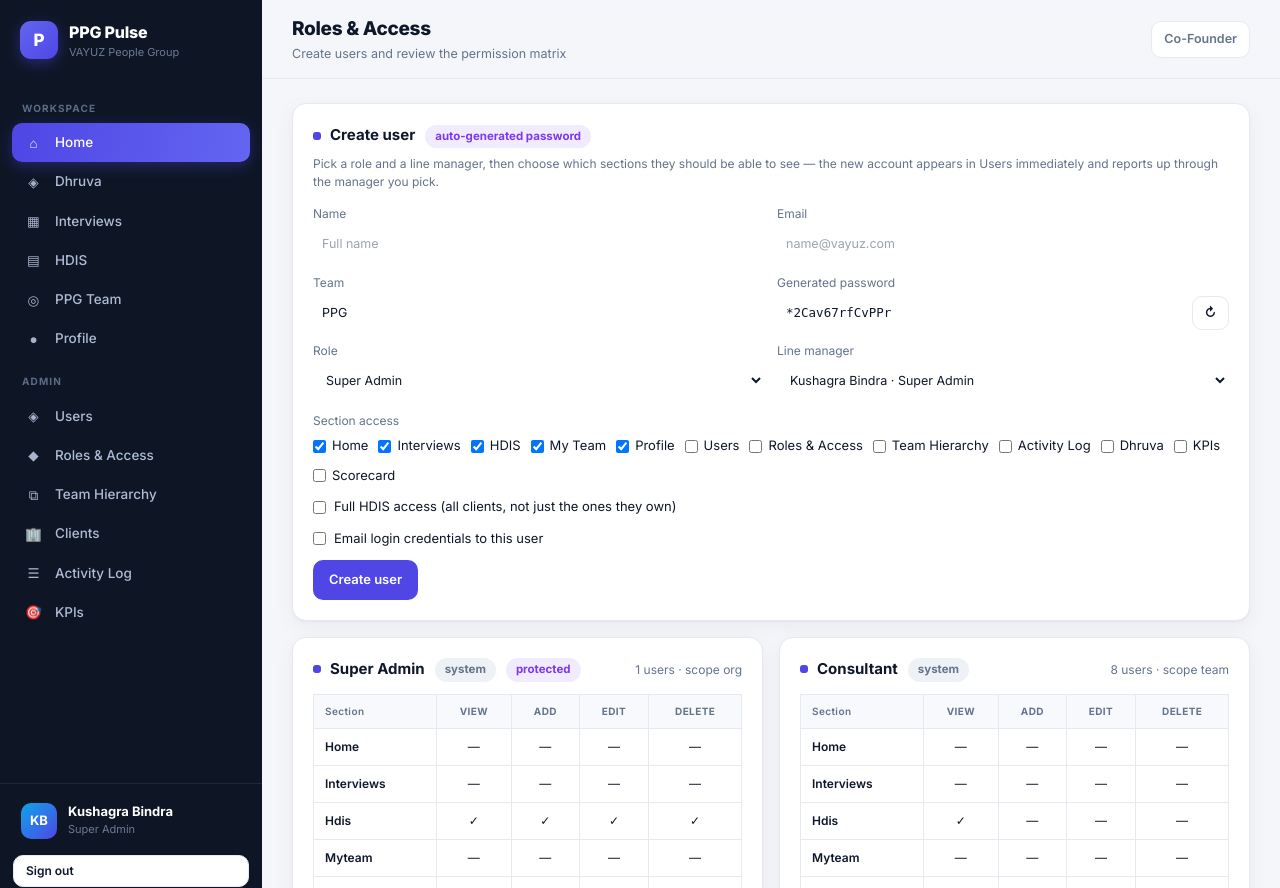
Roles admin (T12.2) › flags when a requested credentials email could not be sent
The width and height of the screenshot is (1280, 888).
Type "New Person" into the field with placeholder "Full name" at (539,244), box [313,227,765,262]
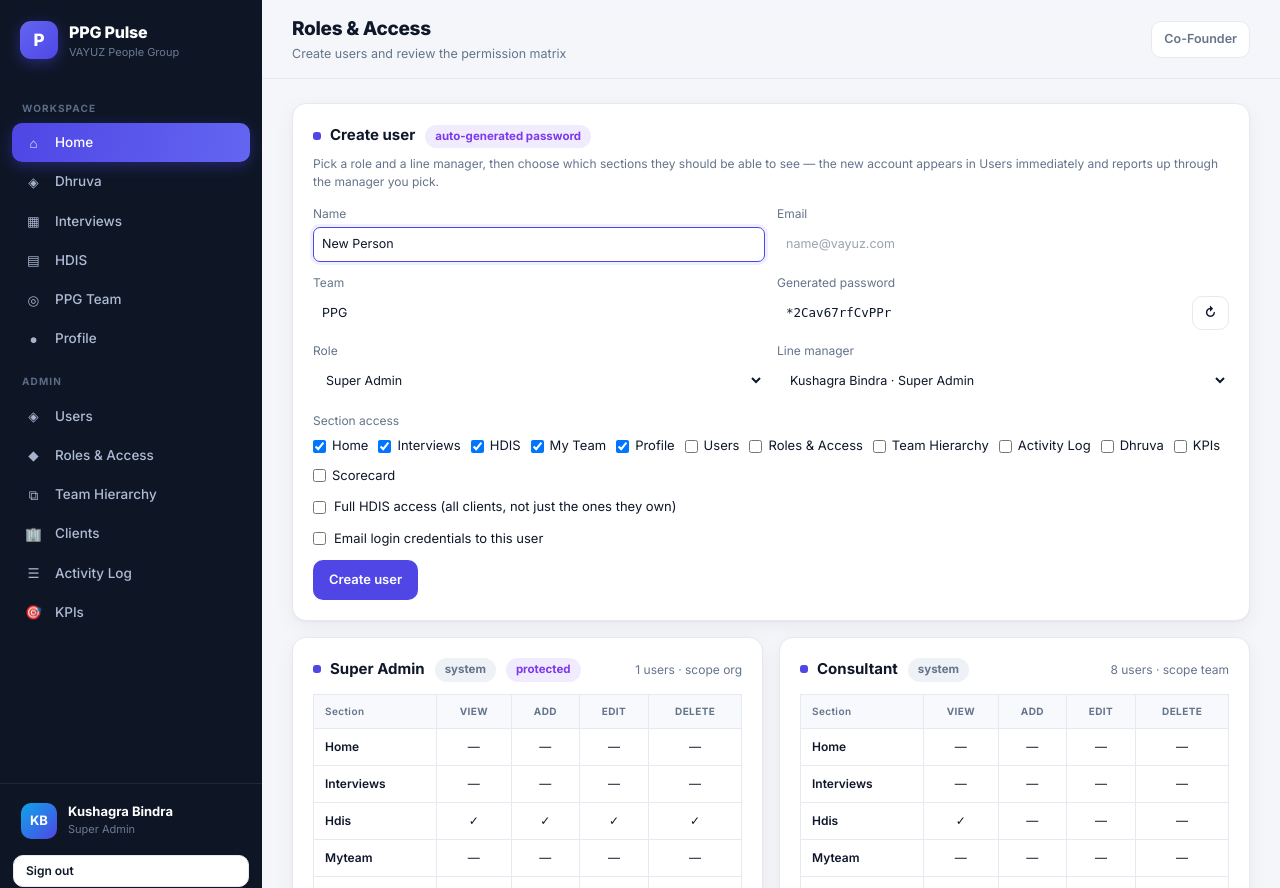
Type "new@vayuz.com" into the field with placeholder "name@vayuz.com" at (1003,244), box [777,227,1229,262]
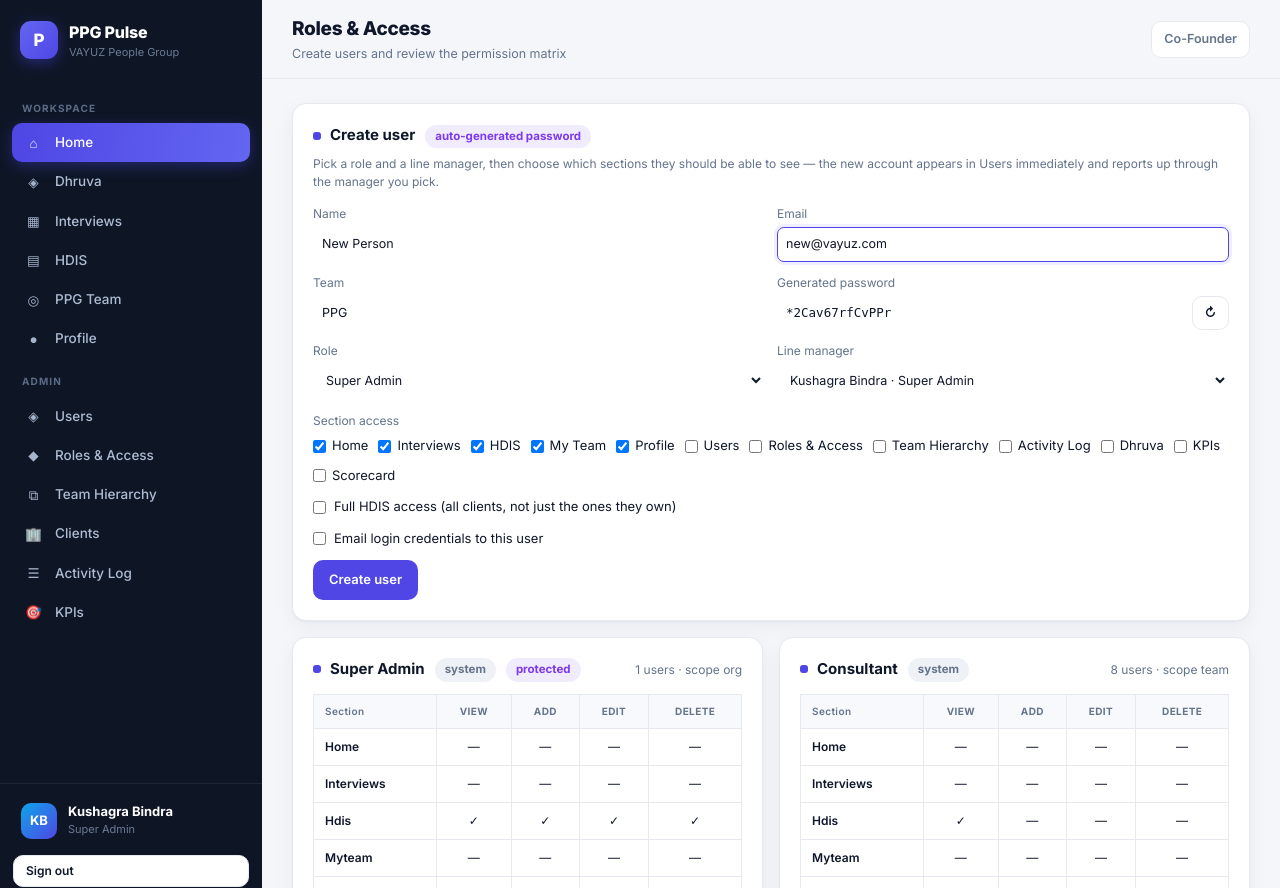
Click the text "Email login credentials to this user" at (428,538), box [313,530,543,546]
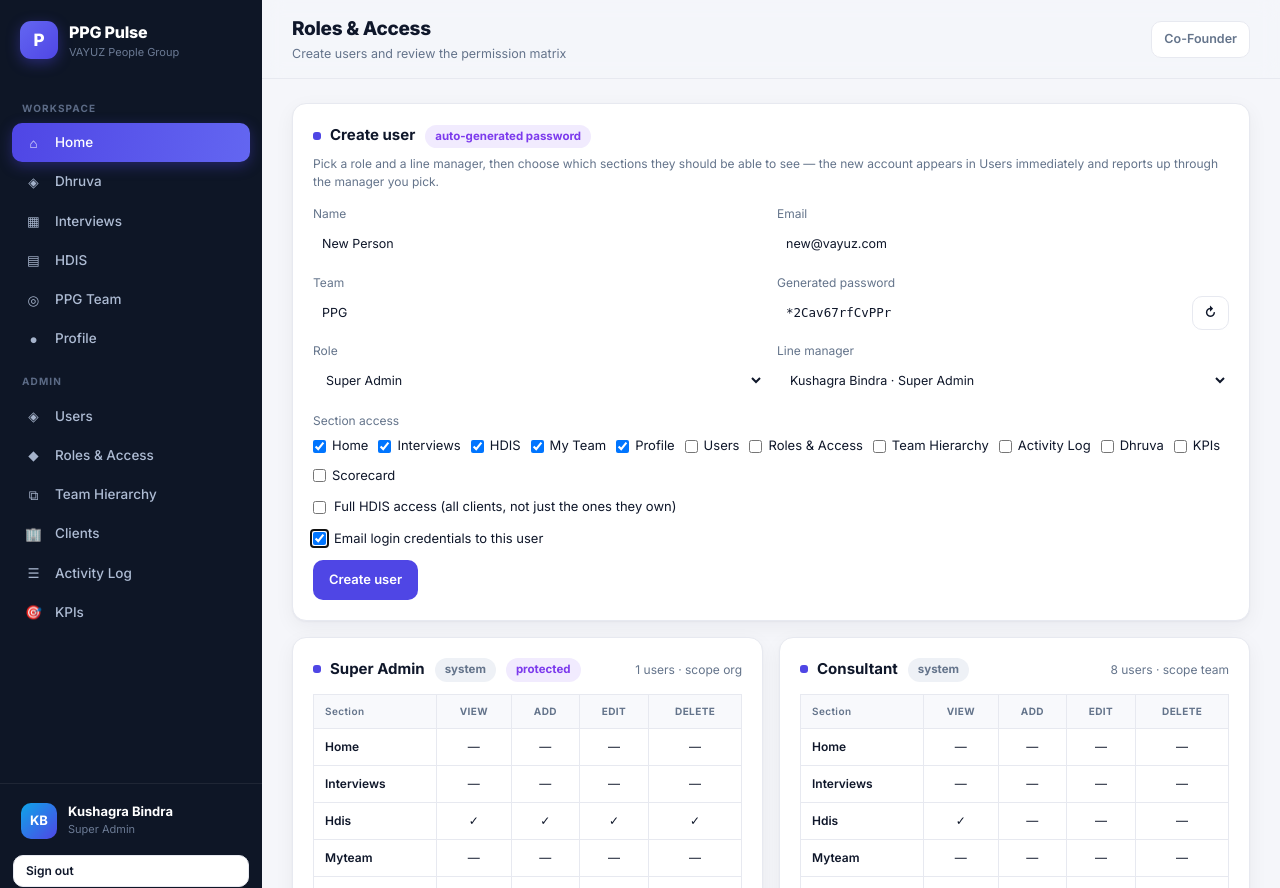
Click the button "Create user" at (366,580), box [313,560,418,600]
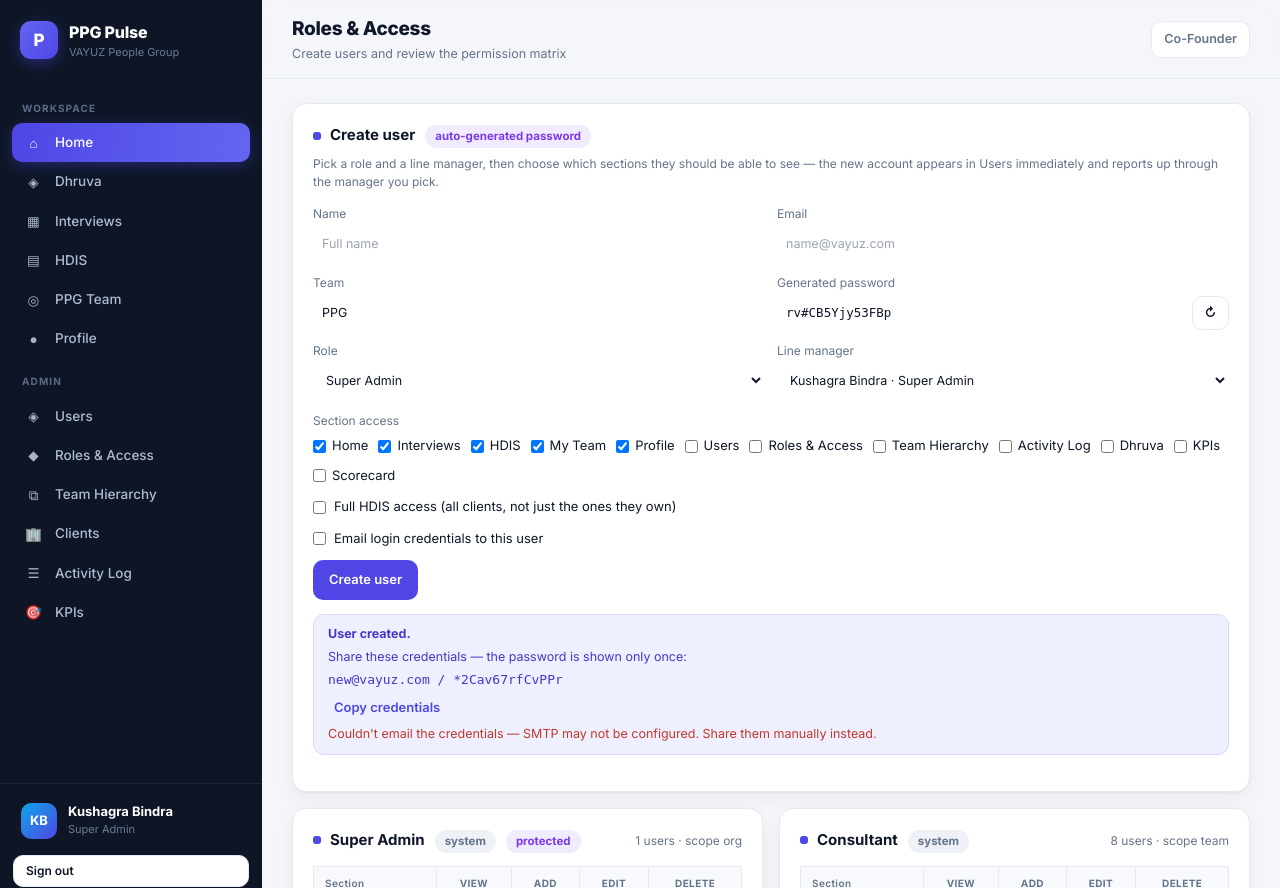
expect the text "Couldn't email the credentials" is shown: met, box [328,726,877,741]
